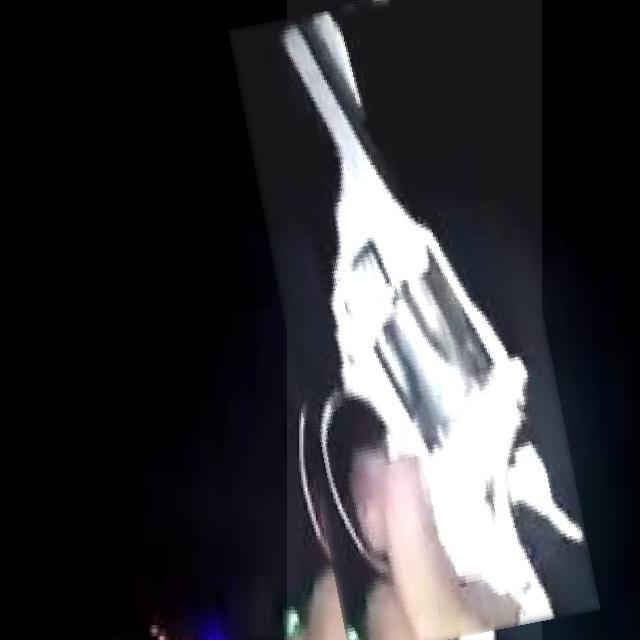handgun: (257, 0, 571, 640)
